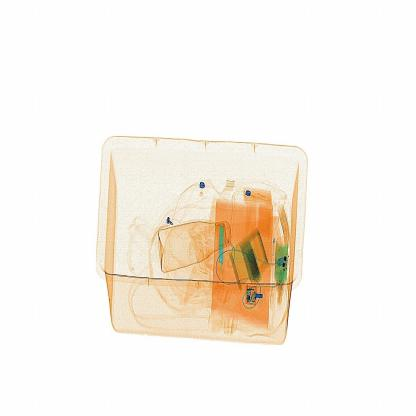pliers: (212, 219, 233, 282)
